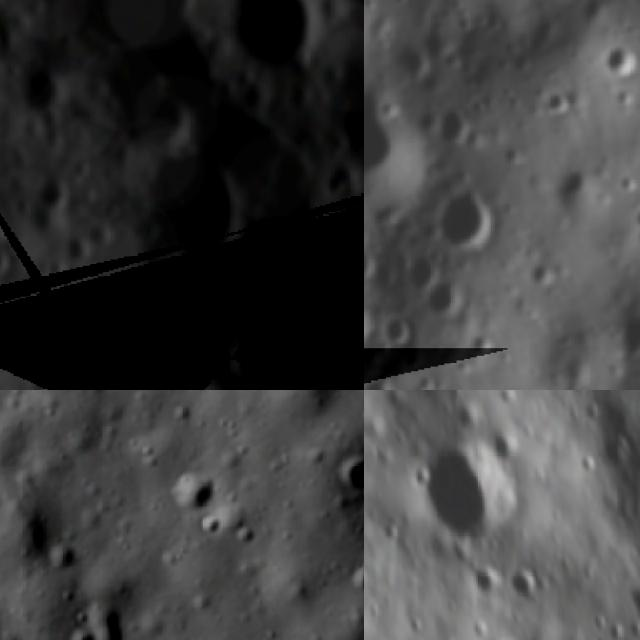crater: (90, 116, 284, 320), (407, 431, 518, 550), (210, 0, 341, 93), (21, 332, 218, 390), (293, 38, 364, 184), (7, 52, 83, 127), (433, 182, 497, 254), (364, 85, 407, 191), (0, 194, 39, 301), (22, 165, 82, 228), (419, 276, 468, 328), (396, 251, 442, 298), (87, 602, 141, 640), (594, 38, 638, 84), (434, 104, 478, 150), (379, 311, 422, 358), (178, 467, 216, 518), (324, 458, 364, 499), (483, 430, 526, 468), (505, 564, 539, 608), (51, 542, 88, 582), (524, 253, 562, 290), (468, 562, 502, 602), (546, 84, 573, 123), (616, 586, 640, 629), (364, 365, 399, 390), (0, 0, 23, 32), (347, 559, 364, 602), (60, 624, 103, 640), (570, 454, 594, 478), (630, 198, 640, 232)
